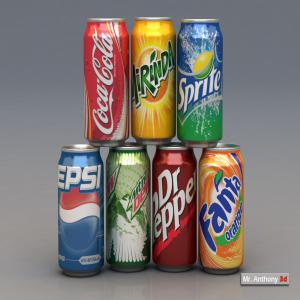Can: (58, 145, 105, 279), (84, 19, 131, 148), (152, 146, 199, 275), (131, 16, 178, 145), (199, 146, 245, 276), (178, 19, 224, 148), (106, 146, 152, 275)
